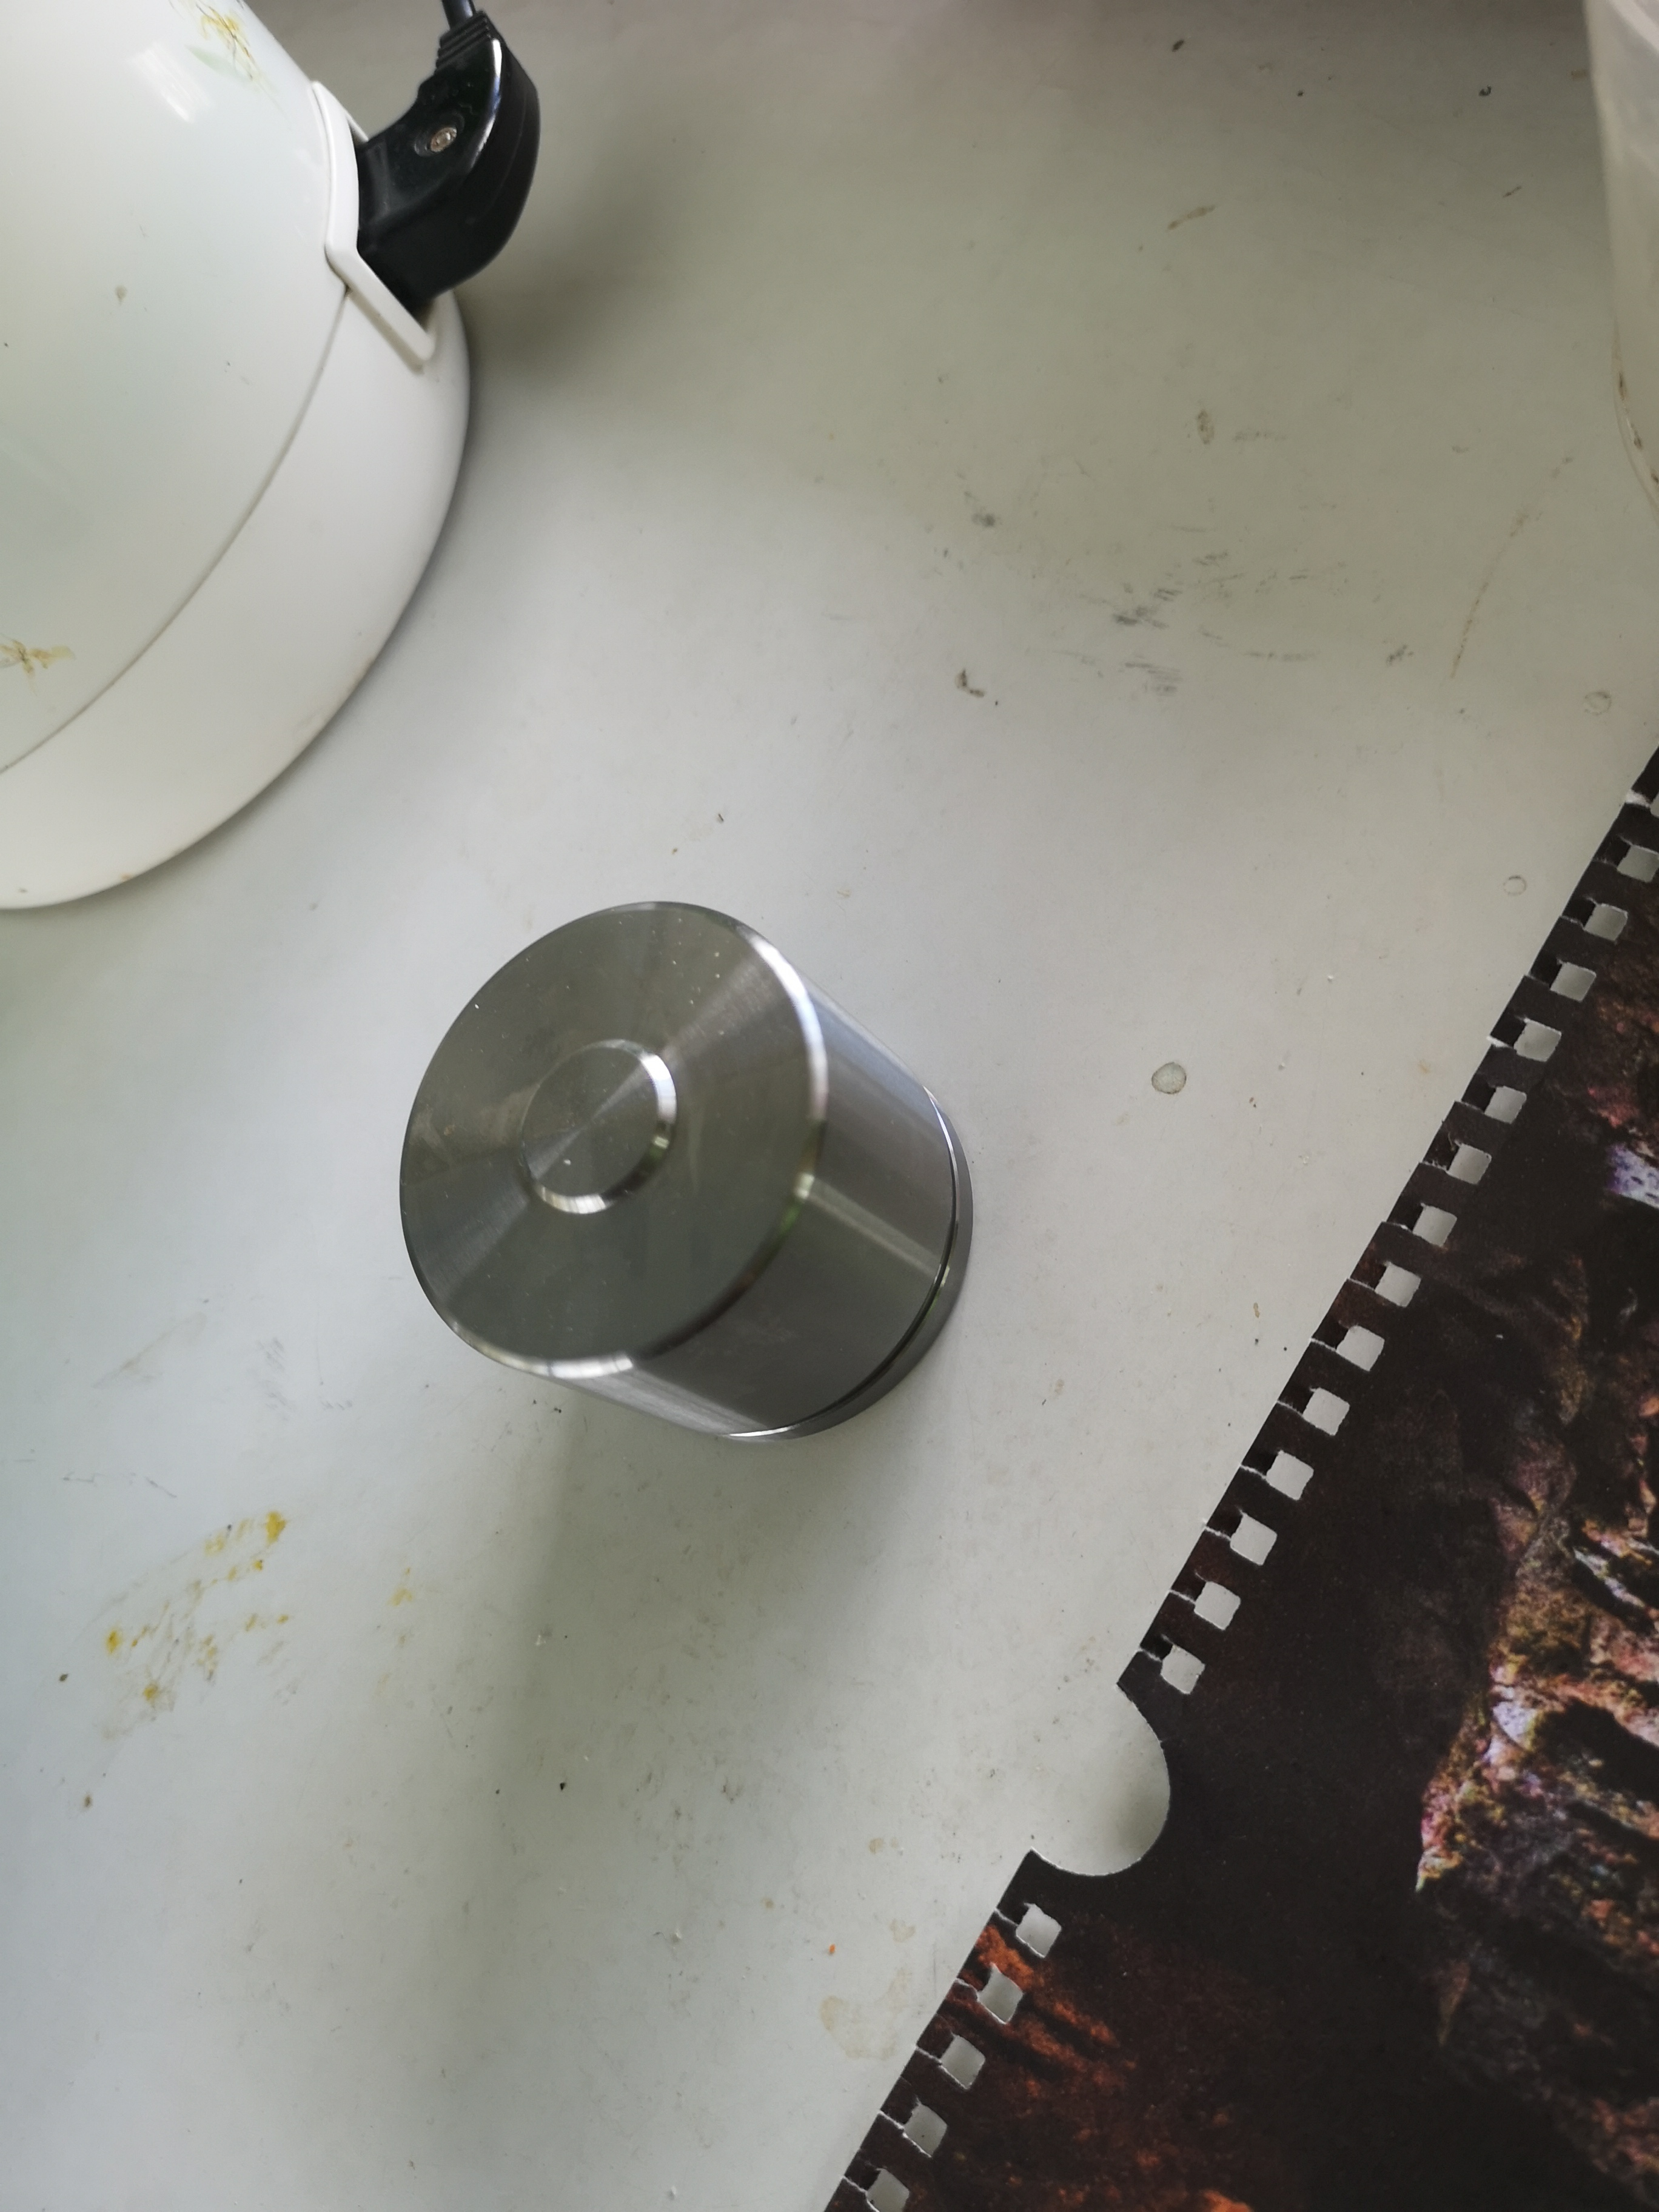ลูกสูบดิสเบรค: (234, 860, 995, 1514)
